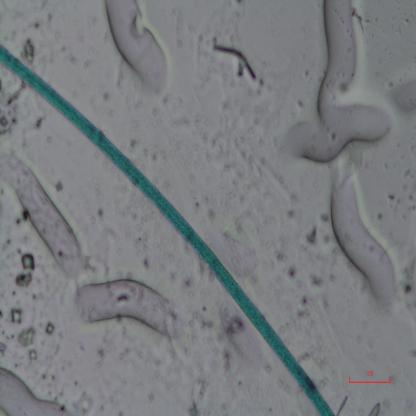Background material: (278, 0, 406, 306), (0, 149, 87, 278), (72, 279, 179, 342), (102, 2, 172, 92), (214, 201, 267, 273), (0, 364, 66, 415), (212, 40, 262, 85), (290, 320, 334, 364), (209, 304, 247, 344), (0, 81, 25, 137), (186, 294, 214, 343), (388, 72, 416, 115), (187, 369, 208, 414), (274, 250, 301, 282), (14, 250, 37, 287), (296, 280, 316, 321), (193, 188, 217, 222), (351, 1, 373, 37), (18, 326, 40, 362), (136, 240, 159, 273), (18, 36, 38, 68), (66, 391, 92, 412), (31, 110, 48, 133), (302, 222, 318, 246), (7, 304, 24, 326), (397, 273, 412, 296), (93, 340, 108, 362), (307, 275, 324, 293), (291, 94, 308, 110), (126, 133, 140, 149), (388, 192, 401, 209), (180, 275, 194, 290), (43, 321, 56, 336), (365, 404, 381, 416), (53, 178, 64, 192), (0, 334, 6, 355), (99, 207, 105, 222)
Microfibre: (0, 45, 334, 415)
